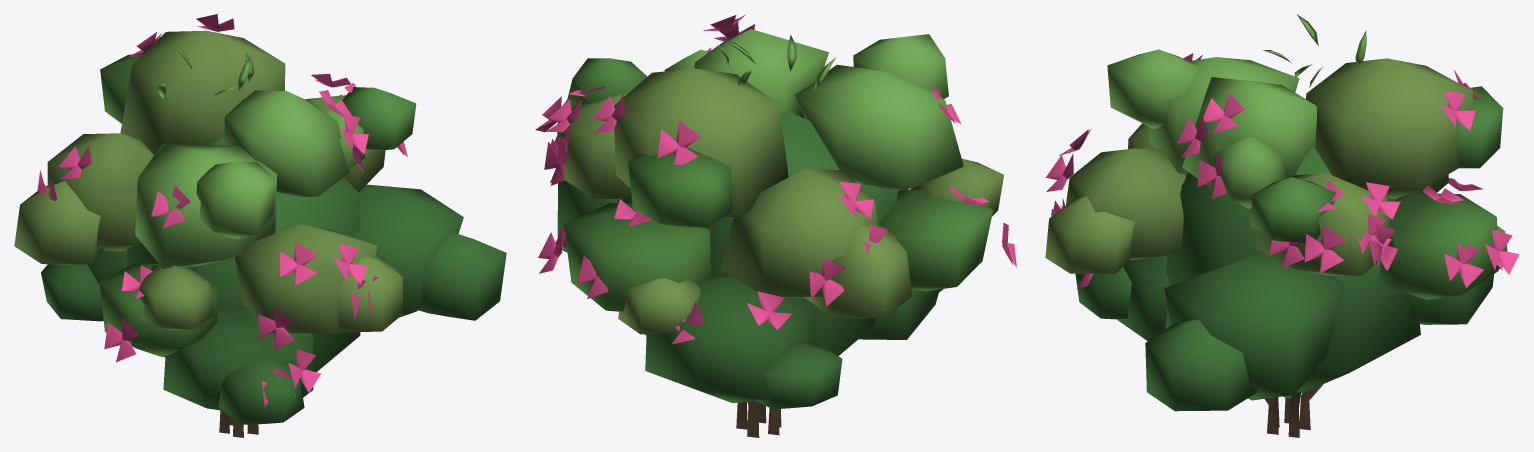
Rendered from azalea.far.glb.
The picture shows the model from 3 angles, left to right: view 1: azimuth 30°, elevation 25°; view 2: azimuth 150°, elevation 25°; view 3: azimuth 270°, elevation 25°; orthographic projection. The views are drawn at different scales.
Visible parts, largest first — view 1: azalea; view 2: azalea; view 3: azalea.
Boxes of the visible parts, x1,y1,x2,y2 form: azalea: (14, 14, 506, 437); azalea: (535, 14, 1016, 437); azalea: (1045, 14, 1519, 437).
Bounding box in the file's own units: 1.16 × 1.03 × 1.15.
